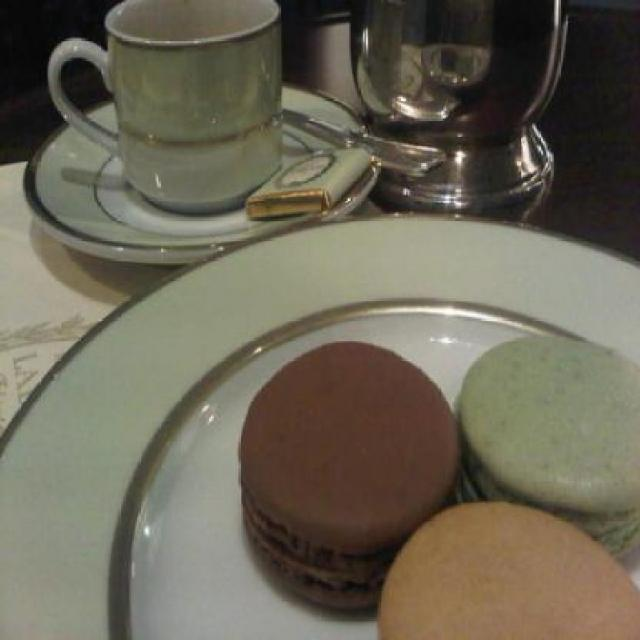Macaron: (230, 330, 639, 638)
